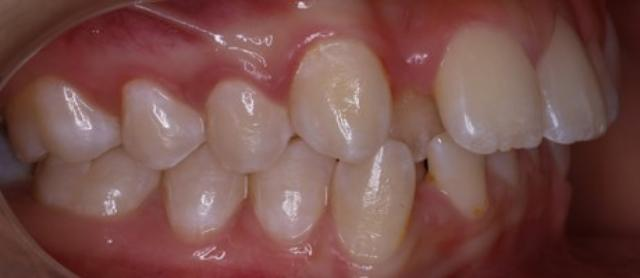canine class II 1/4: (250, 30, 416, 266)
molar class III 1/2: (2, 71, 162, 226)
